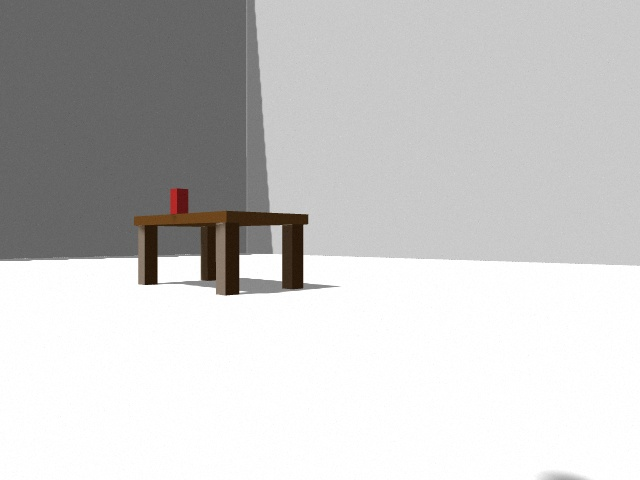red_cube: (170, 189, 177, 214)
